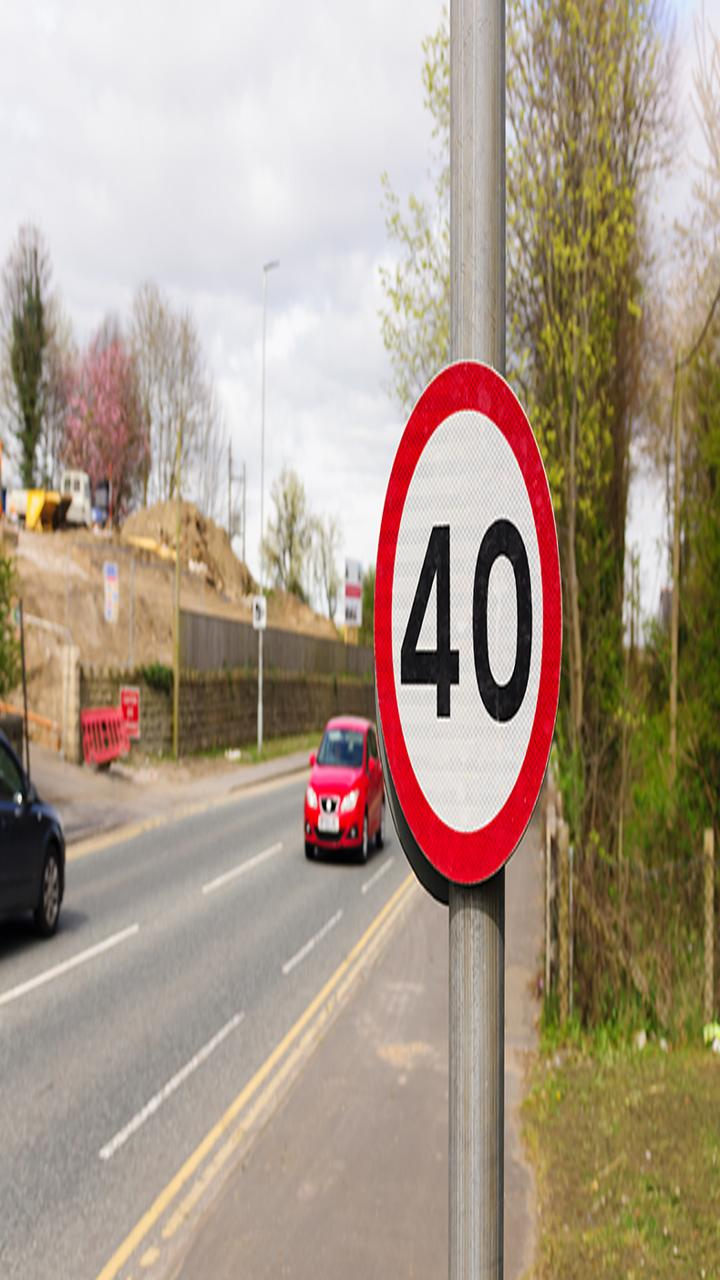Traffic sign: (356, 355, 567, 881)
vehicle: (284, 713, 407, 880)
